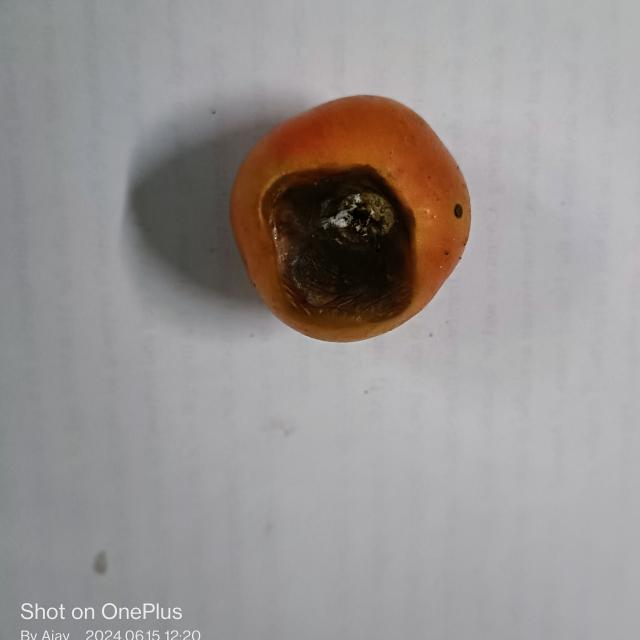Anthrocnose: (261, 161, 418, 335)
